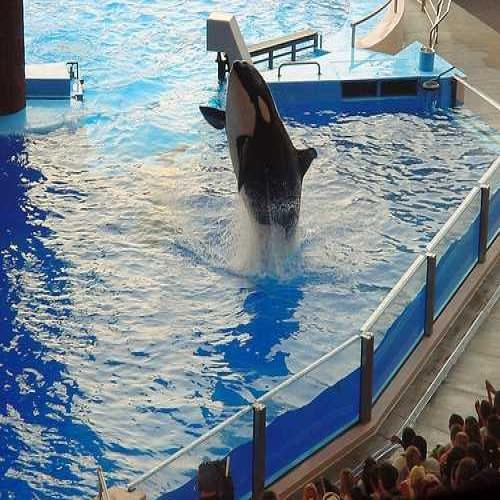killer_whale-endangered: (194, 54, 334, 274)
